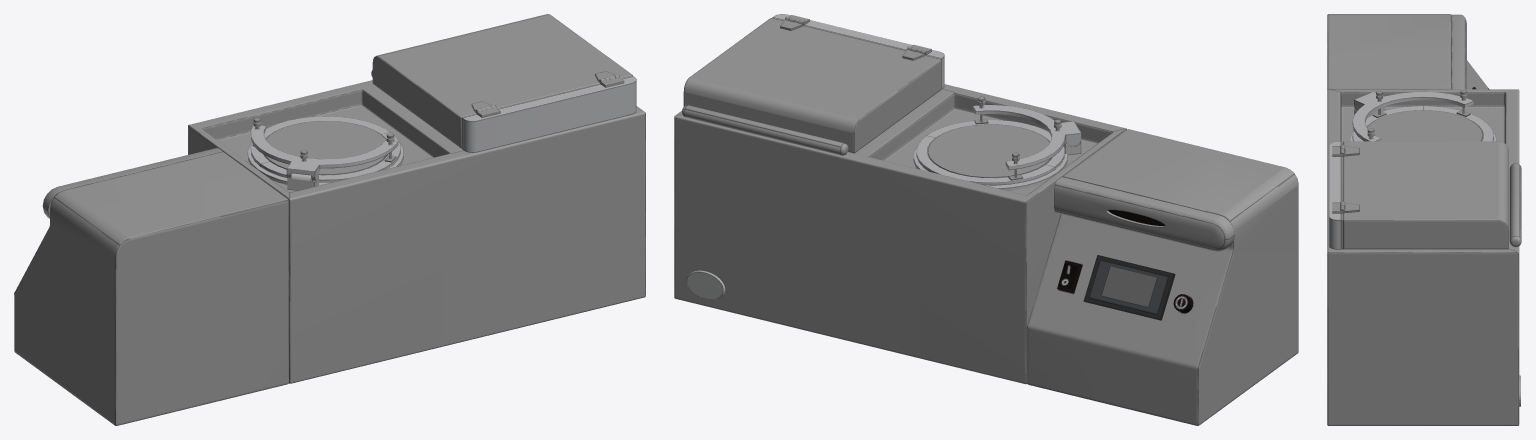
Rendered from spin_coater.fbx.
3 renders of one model, left to right at view 1: azimuth 30°, elevation 25°; view 2: azimuth 150°, elevation 25°; view 3: azimuth 270°, elevation 25°, orthographic. The views are drawn at different scales.
Parts seen in each view (by area): view 1: Cube, Slice.003, Cube.001, Slice.007, Slice.005, Cylinder.001_Plate, Slice.004, Slice.003_Plate; view 2: Cube, Slice.003, Cube.001, Slice.003_Plate, Slice.005, Cylinder.007, Slice.004, Cylinder.001_Plate, Slice, Cube.002, Slice.001, Slice.007 (+2 smaller); view 3: Cube, Cube.001, Slice.003, Slice.005, Cylinder.001_Plate, Slice.003_Plate, Slice.007, Cylinder.007, Slice.004, Cube.007.
Part boxes in pixels (x1,y1,x2,y2): Cube: (188, 80, 645, 383); Slice.003: (14, 152, 288, 425); Cube.001: (372, 14, 632, 147); Slice.007: (462, 76, 636, 152); Slice.005: (264, 121, 387, 175); Cylinder.001_Plate: (250, 124, 398, 181); Slice.004: (250, 116, 400, 182); Slice.003_Plate: (42, 148, 223, 218); Cube: (674, 84, 1126, 384); Slice.003: (1027, 129, 1298, 425); Cube.001: (683, 18, 941, 153); Slice.003_Plate: (1054, 177, 1234, 251); Slice.005: (928, 124, 1051, 177); Cylinder.007: (682, 105, 848, 155); Slice.004: (916, 120, 1064, 185); Cylinder.001_Plate: (972, 105, 1081, 170); Slice: (1101, 266, 1156, 306); Cube.002: (1083, 255, 1175, 320); Slice.001: (1089, 260, 1168, 314); Slice.007: (773, 14, 944, 88); Cube: (1327, 89, 1519, 425); Cube.001: (1343, 141, 1508, 249); Slice.003: (1327, 14, 1488, 89); Slice.005: (1367, 110, 1482, 141); Cylinder.001_Plate: (1352, 91, 1473, 141); Slice.003_Plate: (1451, 14, 1466, 89); Slice.007: (1329, 141, 1340, 249); Cylinder.007: (1509, 163, 1521, 247); Slice.004: (1352, 106, 1493, 141); Cube.007: (1341, 141, 1343, 249).
Bounding box in the file's own units: 75.78 × 30.14 × 25.53.
